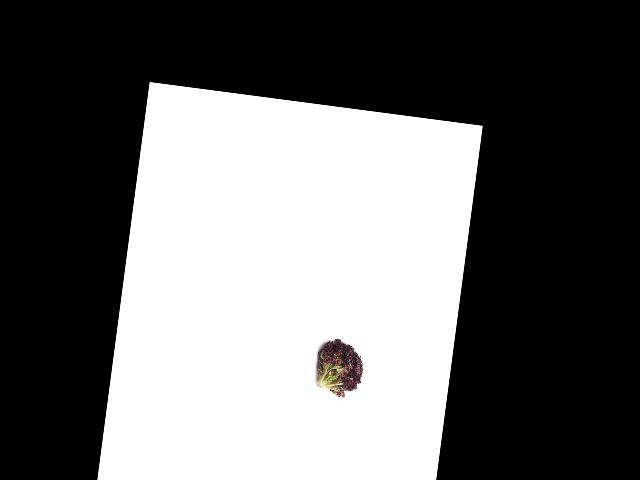lettuce: (309, 333, 368, 396)
